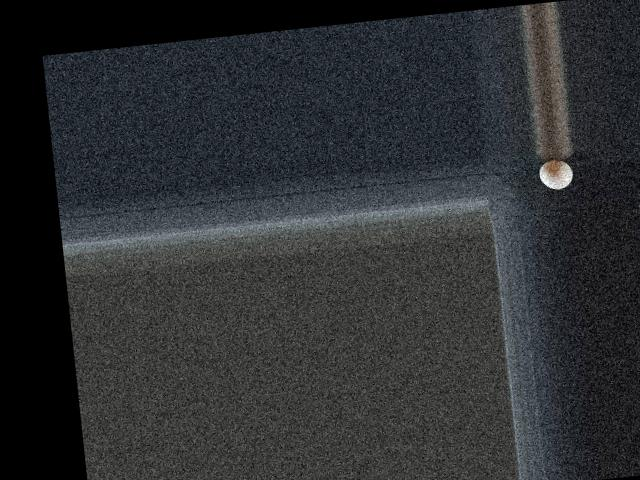egg: (537, 158, 573, 191)
